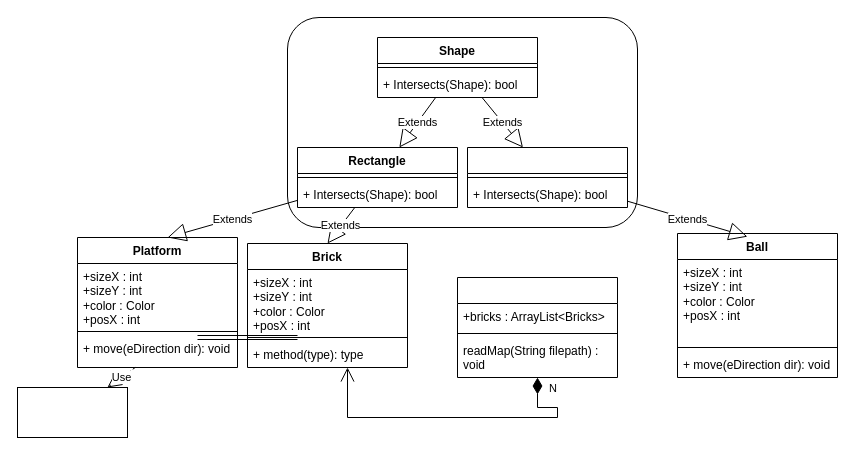
The diagram is 855 pixels wide and 455 high, and some of its shapes have lost their labels. Here are the shapes that lost their labels. From the top down, the box of each, then its label:
(466, 146, 628, 208): Circle
(456, 276, 618, 378): BrickMap
(16, 386, 128, 438): eDirection
